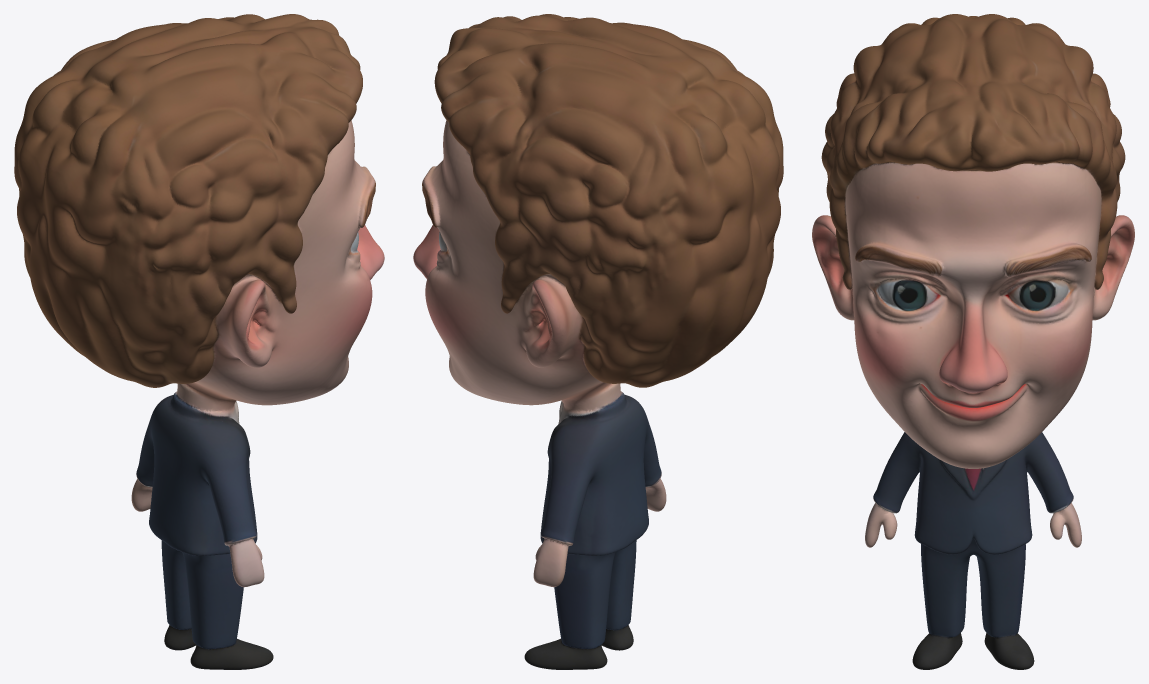
File: zuckerberg.glb
The picture shows the model from 3 angles, left to right: view 1: azimuth 30°, elevation 25°; view 2: azimuth 150°, elevation 25°; view 3: azimuth 270°, elevation 25°; orthographic projection.
Parts seen in each view (by area): view 1: tripo_node_0945958f-cf5a-4d5d-84cf-0de4409f8684; view 2: tripo_node_0945958f-cf5a-4d5d-84cf-0de4409f8684; view 3: tripo_node_0945958f-cf5a-4d5d-84cf-0de4409f8684.
Part boxes in pixels (x1,y1,x2,y2): tripo_node_0945958f-cf5a-4d5d-84cf-0de4409f8684: (14,14,384,669); tripo_node_0945958f-cf5a-4d5d-84cf-0de4409f8684: (413,14,783,669); tripo_node_0945958f-cf5a-4d5d-84cf-0de4409f8684: (812,14,1134,669).
Size of the model in its own units: 0.586 by 1 by 0.4824.
1 material, 1 textured.
